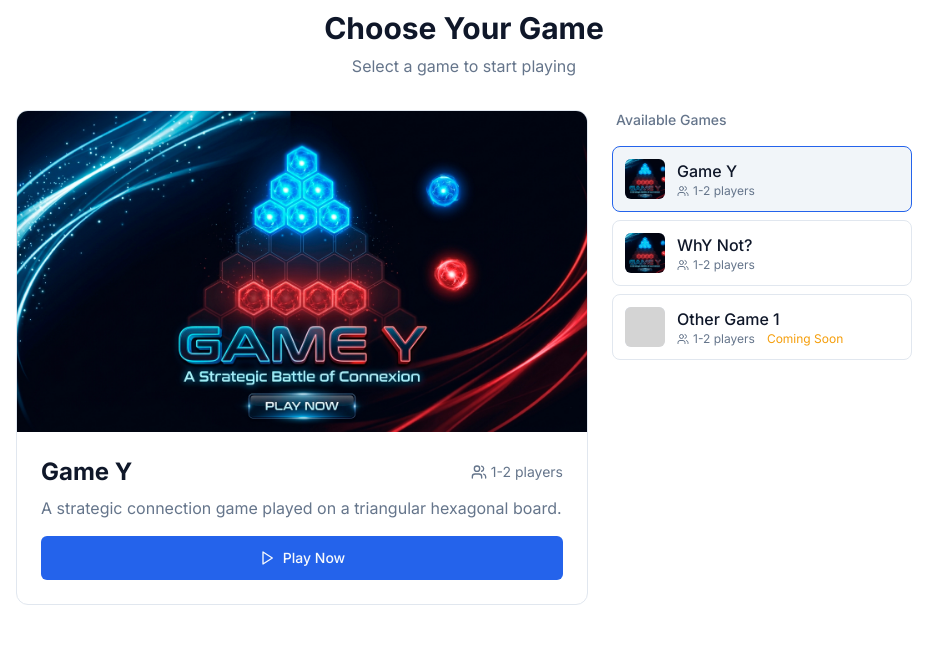
GameSelectionPage › Game selection interaction › updates detail panel when a different game is clicked
Click the button "WhY Not? 1-2 players": (645, 253) [612, 220, 912, 286]
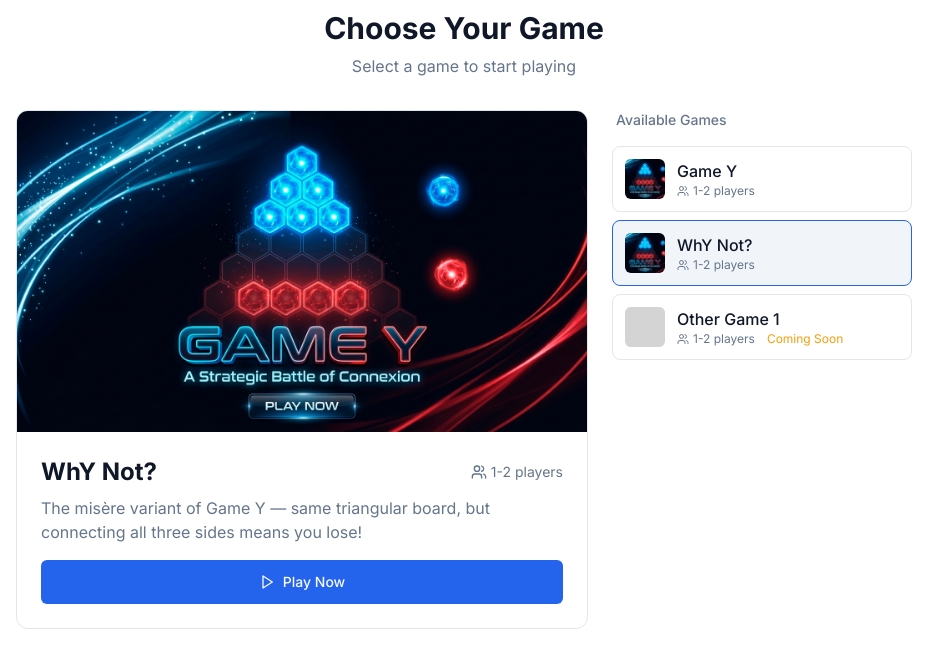
Expected: the text "The misère variant of Game Y — same triangular board, but connecting all three sides means you lose!" is shown, [41, 498, 490, 542]
